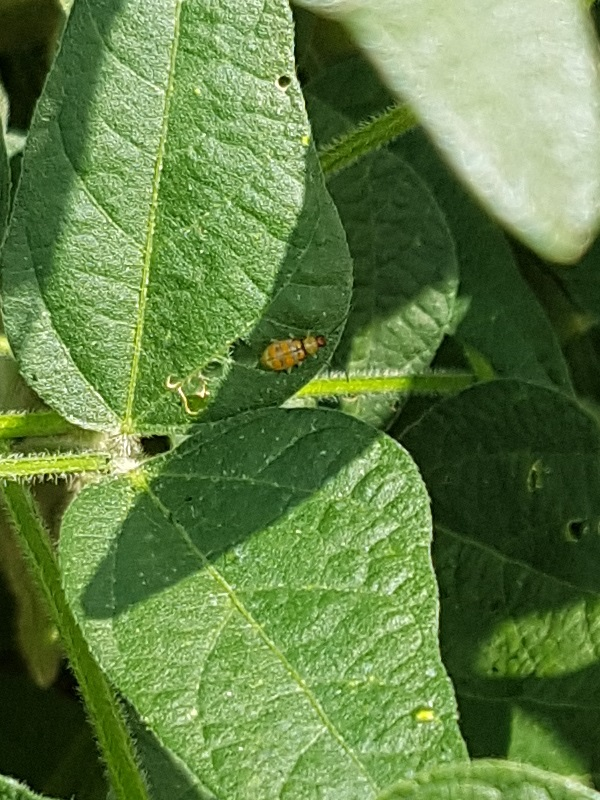Diabrotica_speciosa: (249, 308, 359, 394)
